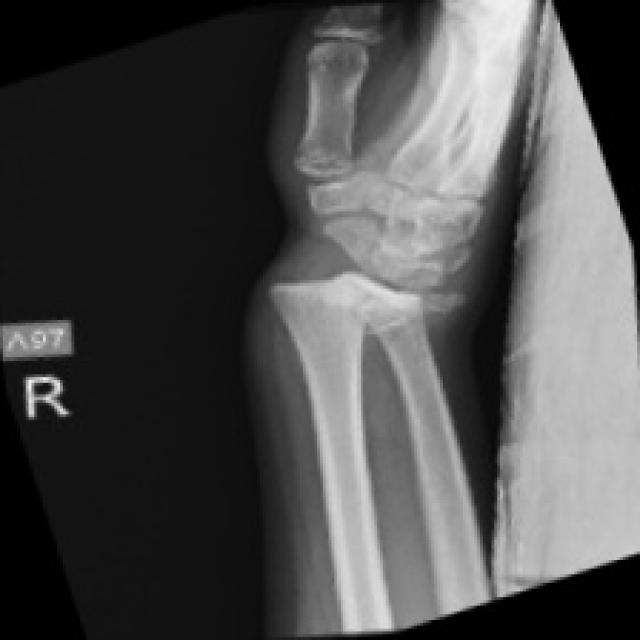fracture: (234, 154, 409, 381)
